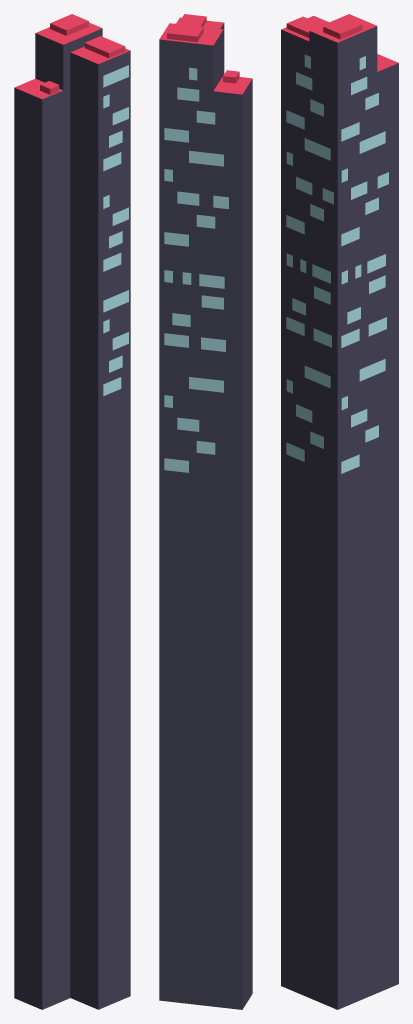
Rendered from CbpBuild H.fbx.
The picture shows the model from 3 angles, left to right: view 1: azimuth 90°, elevation 25°; view 2: azimuth 210°, elevation 25°; view 3: azimuth 270°, elevation 25°; orthographic projection.
Visible parts, largest first — view 1: CbpBuild H; view 2: CbpBuild H; view 3: CbpBuild H.
Boxes of the visible parts, x1,y1,x2,y2 form: CbpBuild H: [14, 14, 130, 1009]; CbpBuild H: [159, 14, 252, 1009]; CbpBuild H: [281, 14, 398, 1009].
Size of the model in its own units: 7.88 by 94.5 by 10.37.
